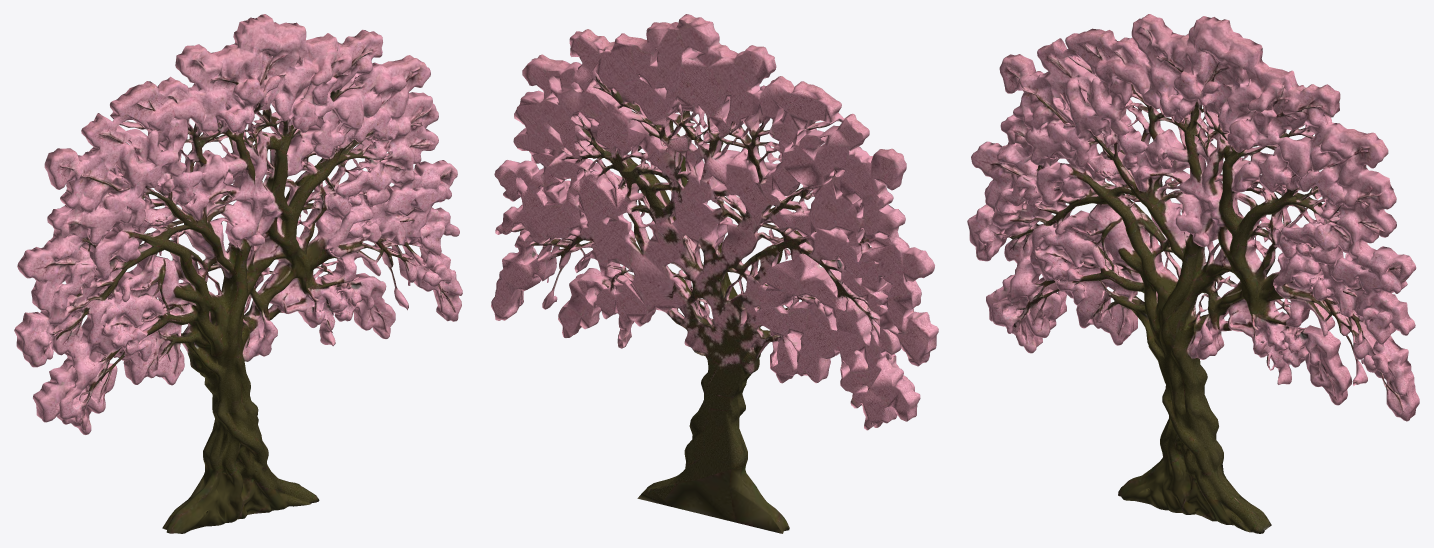
The model's file is lib_tp_sakura.near.glb.
3 renders of one model, left to right at view 1: azimuth 30°, elevation 25°; view 2: azimuth 150°, elevation 25°; view 3: azimuth 330°, elevation 25°, orthographic.
Size of the model in its own units: 1.79 by 1.9 by 0.1289.
Materials: 1 (1 with a texture image).
